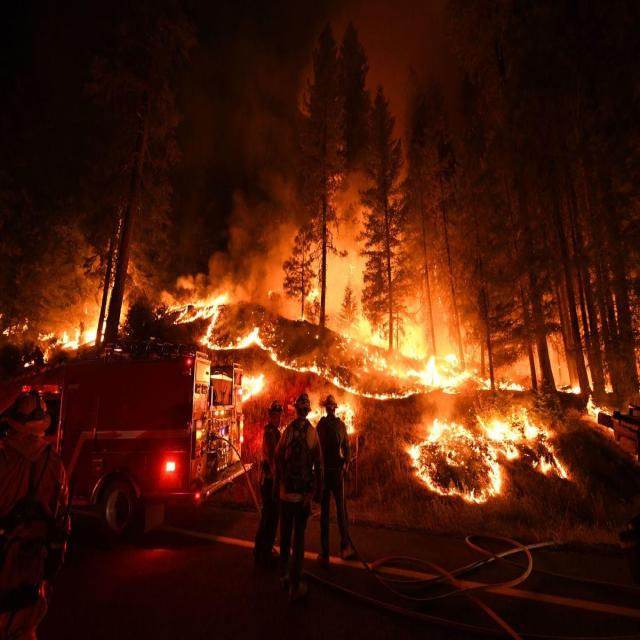Fire: (64, 231, 620, 503)
